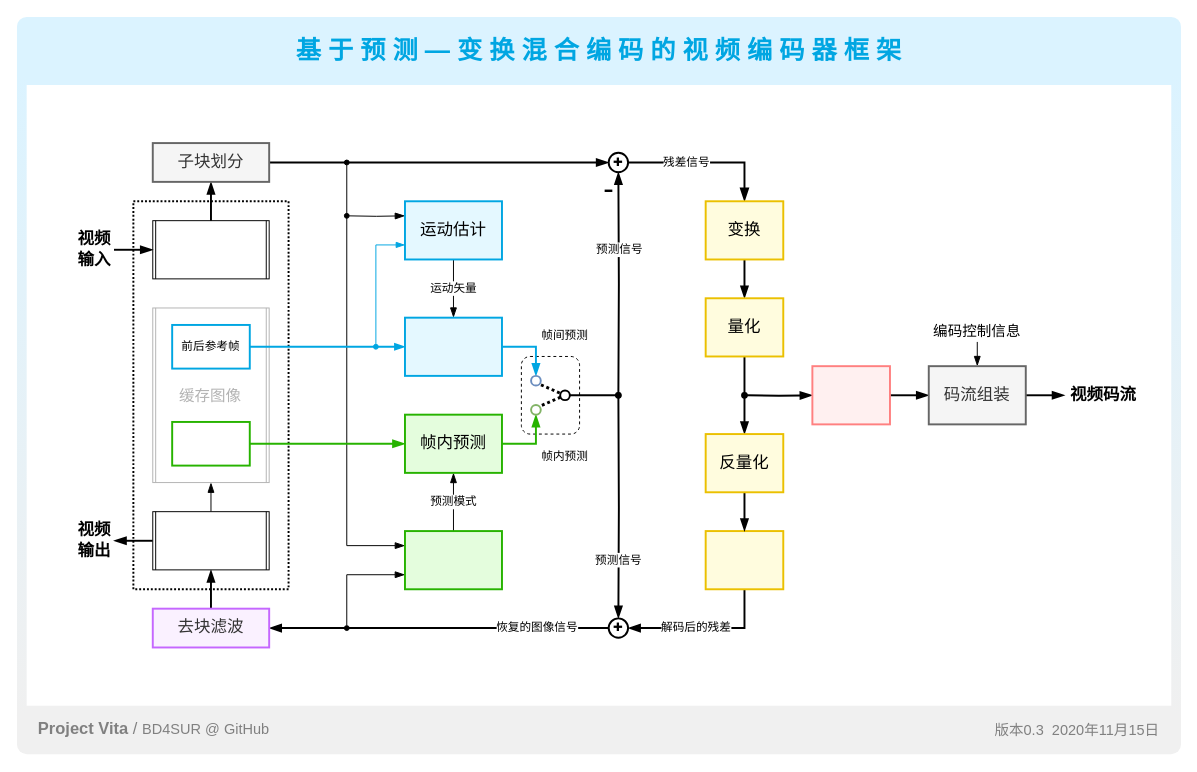
This 1197x772 diagram has some shape labels left out. Each missing label, with the box of its shape:
反变换: (704, 530, 784, 590)
帧内预测 模式选择: (404, 530, 502, 590)
待编码图像: (152, 220, 269, 279)
熵编码: (811, 365, 890, 425)
相邻重建块: (171, 420, 250, 466)
运动补偿: (404, 316, 502, 376)
重建图像 （滤波以及未滤波）: (152, 511, 269, 570)
